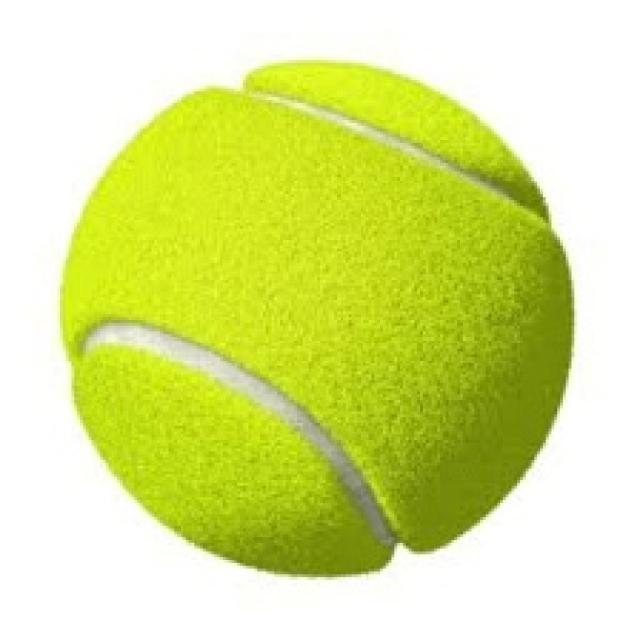Tennis Ball: (57, 60, 577, 580)
